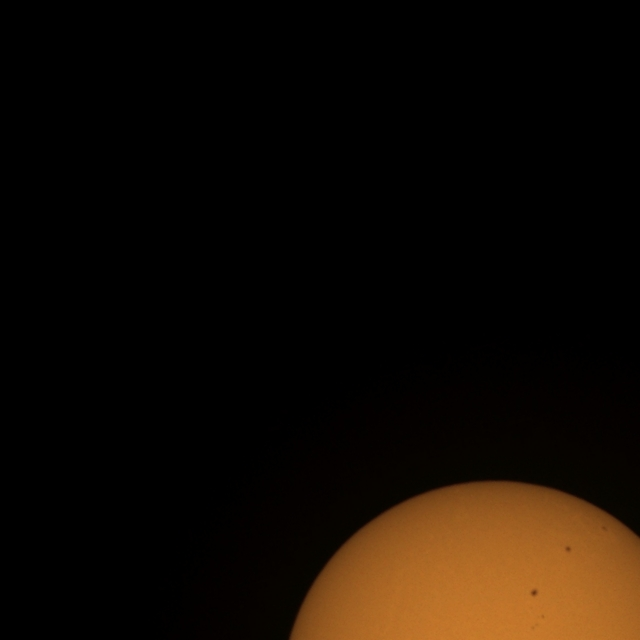sunspot: (530, 613, 547, 631), (529, 587, 539, 598), (530, 622, 540, 631), (564, 545, 573, 554), (602, 525, 608, 532)
